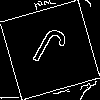J: (25, 25, 70, 78)
